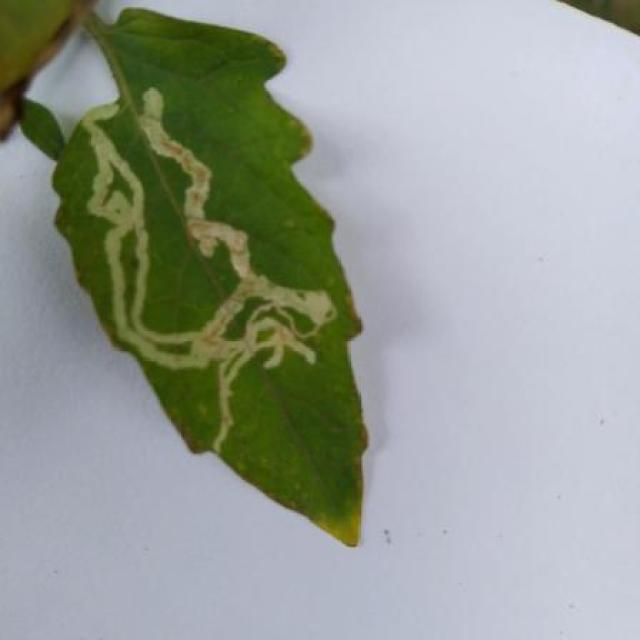Leaf Miner: (51, 4, 372, 552)
